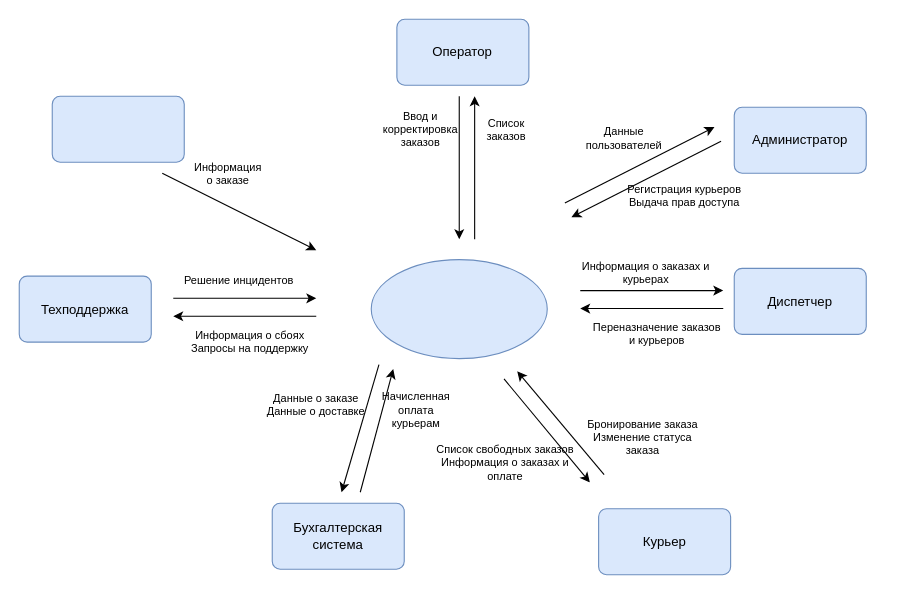
The diagram is 897 pixels wide and 611 high, and some of its shapes have lost their labels. Each missing label, with the centre of its shape:
Магазины/предприятия: [117,128]
Онлайн-система доставки: [458,308]
